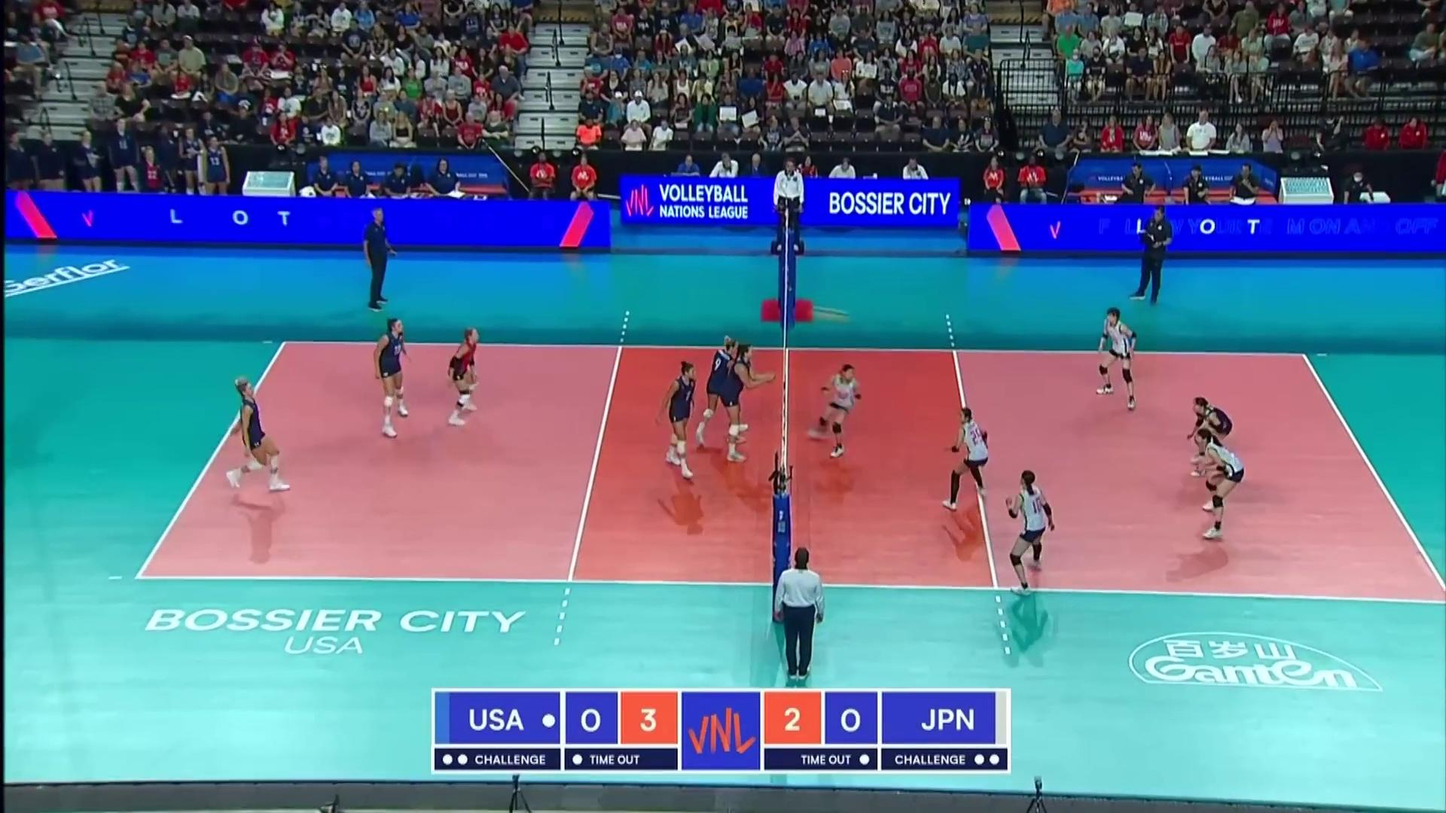player: (228, 379, 293, 493), (1005, 471, 1060, 592), (699, 335, 754, 446), (723, 342, 773, 463), (1194, 429, 1243, 537), (940, 409, 991, 510), (375, 319, 415, 440), (809, 364, 860, 457), (660, 361, 697, 480), (1098, 308, 1140, 408), (446, 328, 484, 427), (1187, 397, 1234, 475)
refree: (776, 548, 825, 681), (771, 160, 806, 251)
